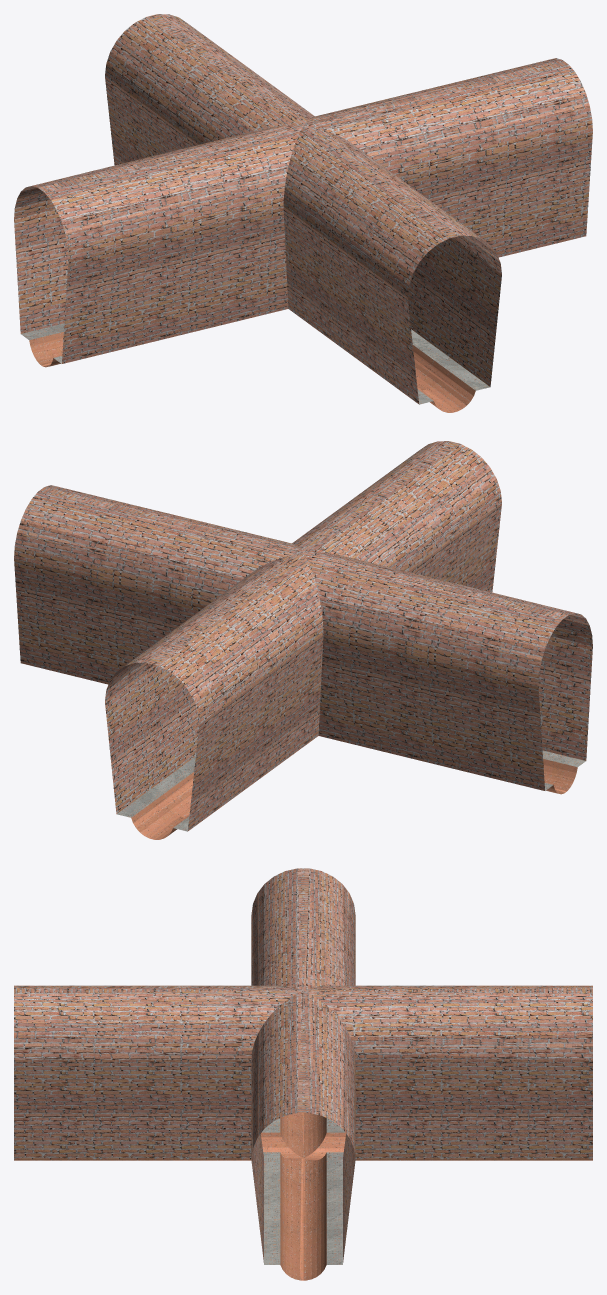
3 views of the same model, one above another, from view 1: azimuth 30°, elevation 25°; view 2: azimuth 150°, elevation 25°; view 3: azimuth 270°, elevation 25° (orthographic). The views are drawn at different scales.
Visible parts, largest first — view 1: SketchUp (×3); view 2: SketchUp (×3); view 3: SketchUp (×4).
Part boxes in pixels (left/top/right/bottom): SketchUp (×3): left=14, top=14, right=592, bottom=412; SketchUp (×3): left=14, top=441, right=592, bottom=839; SketchUp (×4): left=14, top=868, right=592, bottom=1280.
Size of the model in its own units: 197 by 197 by 62.99.
